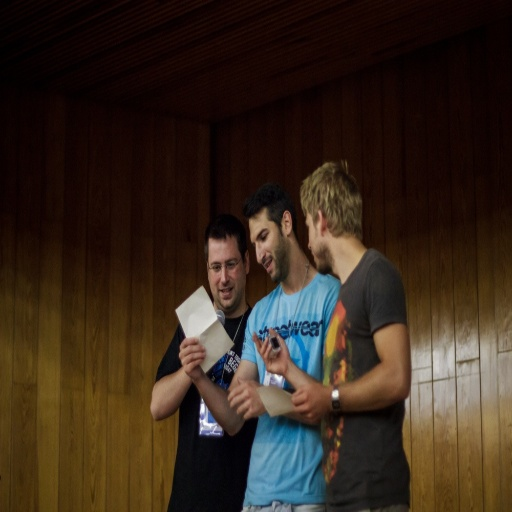hand: (227, 366, 263, 435), (249, 327, 292, 376), (289, 383, 331, 426), (179, 333, 208, 385)
